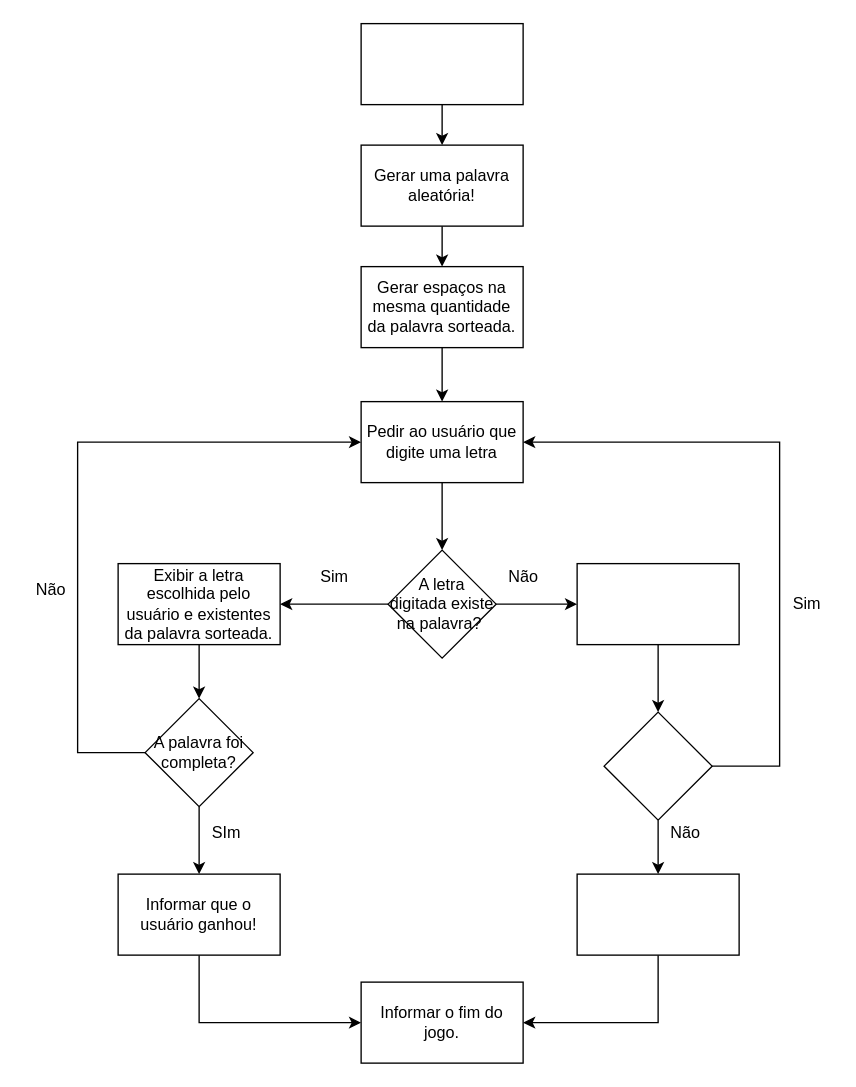
The diagram is 856 pixels wide and 1087 high, and some of its shapes have lost their labels. Here are the shapes that lost their labels. From the top down, the centre of each, then its label:
(x=441, y=63): Inicio
(x=657, y=603): Descontar do número total de tentativas e desenhar mais uma parte do Hangman.
(x=657, y=765): O usuário ainda tem tentativas?
(x=657, y=914): Informar que o usuário perdeu.
